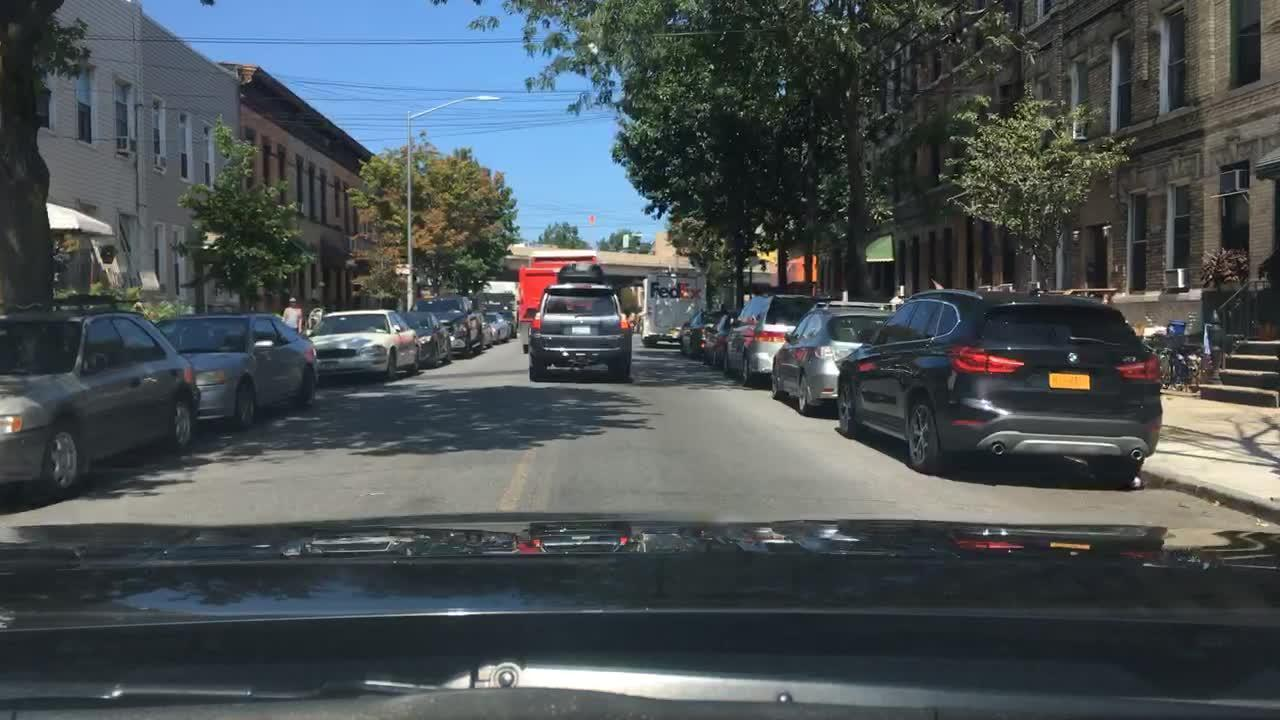bmw: (1064, 347, 1082, 367)
